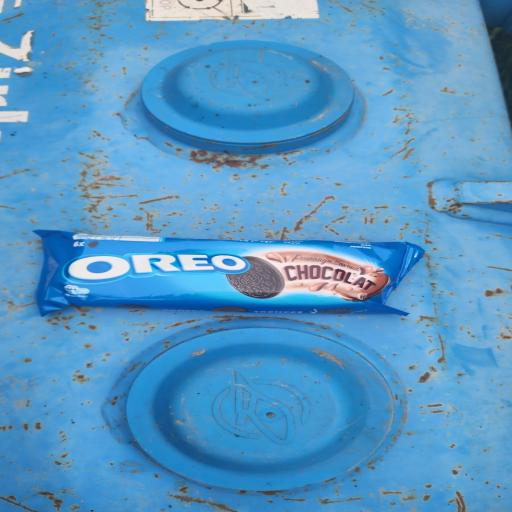oreo: (9, 199, 474, 382)
